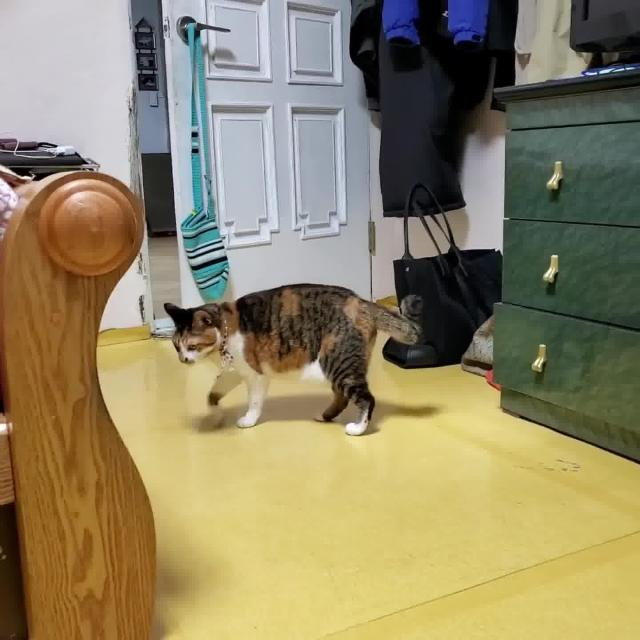cat: (162, 278, 429, 438)
